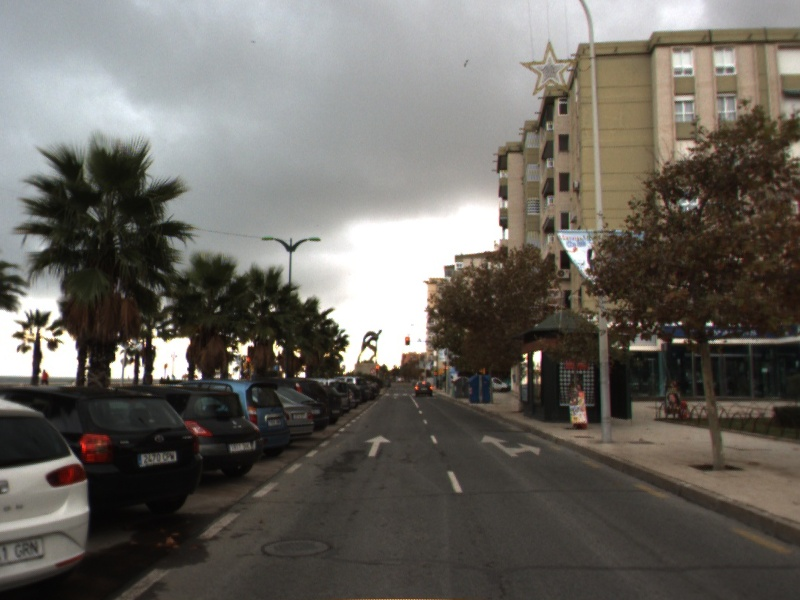STRAIGHT: (363, 433, 393, 458)
STRAIGHT_RIGHT: (479, 433, 542, 458)
